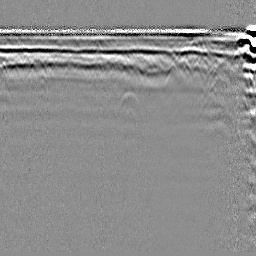cavity: (115, 89, 142, 114)
